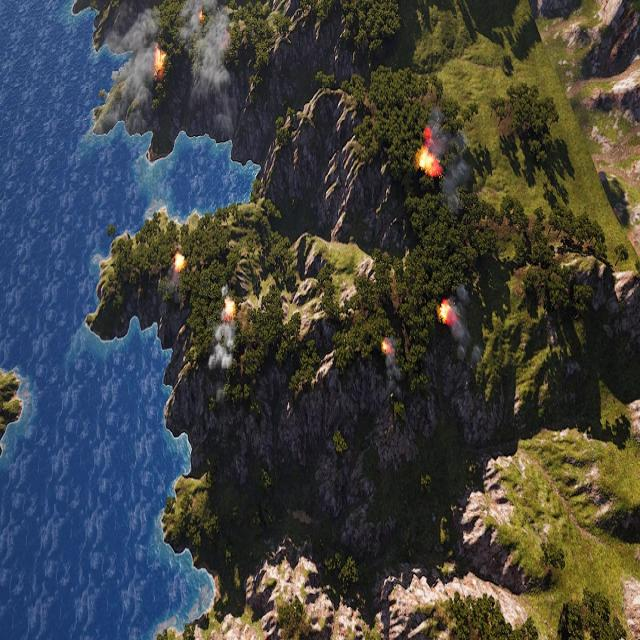fire: (417, 145, 440, 177), (438, 300, 456, 326), (152, 47, 166, 79), (224, 299, 237, 320), (173, 253, 184, 270), (381, 338, 391, 354), (197, 6, 205, 22)
smoke: (104, 0, 241, 168), (426, 105, 472, 219), (445, 284, 483, 379), (203, 323, 237, 409), (382, 332, 400, 397)
